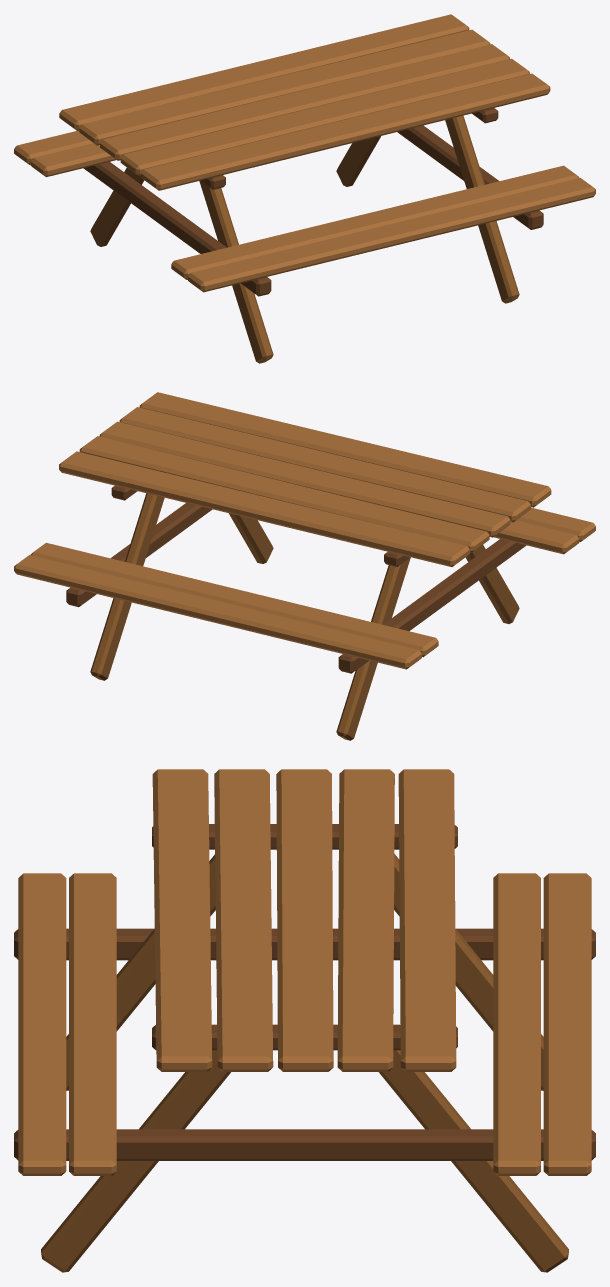
File: Prop_PicnicTable.fbx
3 views of the same model, one above another, from view 1: azimuth 30°, elevation 25°; view 2: azimuth 150°, elevation 25°; view 3: azimuth 270°, elevation 25° (orthographic). The views are drawn at different scales.
Parts seen in each view (by area): view 1: Prop_PicnicTable; view 2: Prop_PicnicTable; view 3: Prop_PicnicTable.
Boxes of the visible parts, x1,y1,x2,y2 form: Prop_PicnicTable: [14, 14, 595, 363]; Prop_PicnicTable: [14, 392, 595, 740]; Prop_PicnicTable: [14, 769, 595, 1272].
Bounding box in the file's own units: 1.8 × 0.7696 × 1.52.
